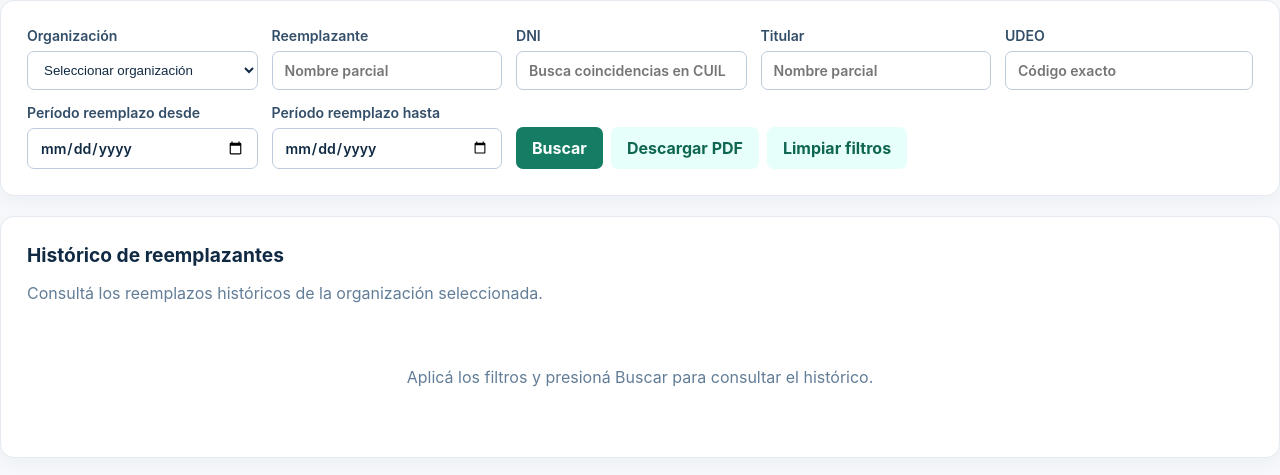
History › muestra mensajes específicos para 403, 400 y 500
Later steps or results of the test are not shown.
Click the button "Buscar" at (559, 148), box x1=516 y1=127 x2=603 y2=169
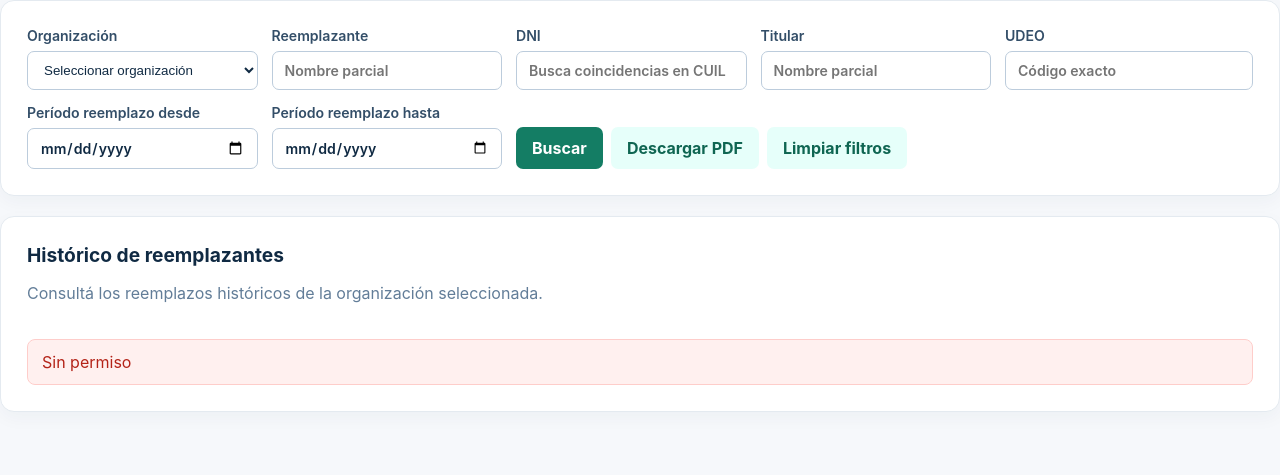
Now the text "Sin permiso" is shown, box x1=42 y1=352 x2=131 y2=372
